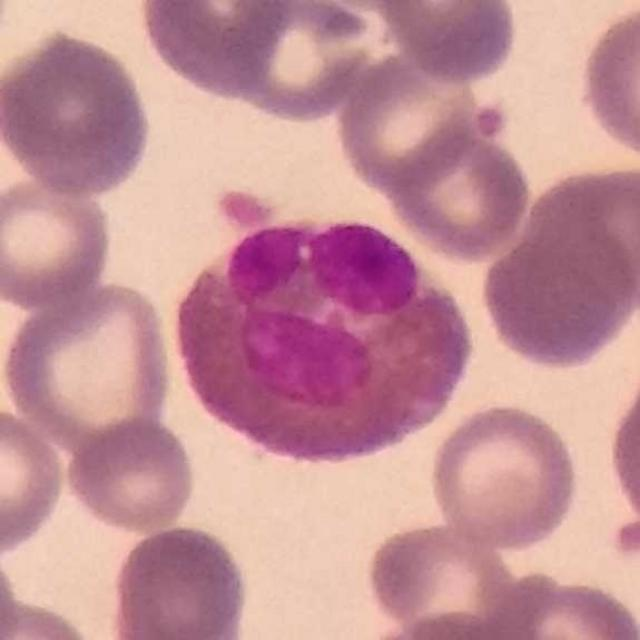Eosinophil: (181, 210, 474, 474)
Platelets: (221, 180, 276, 236), (599, 522, 640, 562)
RBC: (476, 159, 640, 373), (0, 277, 179, 449), (0, 26, 156, 200), (331, 38, 494, 198), (424, 398, 583, 554), (381, 114, 534, 264), (212, 0, 380, 126), (363, 516, 531, 639), (106, 521, 252, 640), (0, 168, 117, 312), (61, 413, 199, 535), (134, 0, 295, 100), (372, 0, 522, 87), (475, 567, 639, 640), (573, 0, 640, 168), (0, 402, 70, 558), (603, 350, 640, 546), (355, 606, 541, 640), (1, 593, 100, 640), (0, 538, 23, 640)
